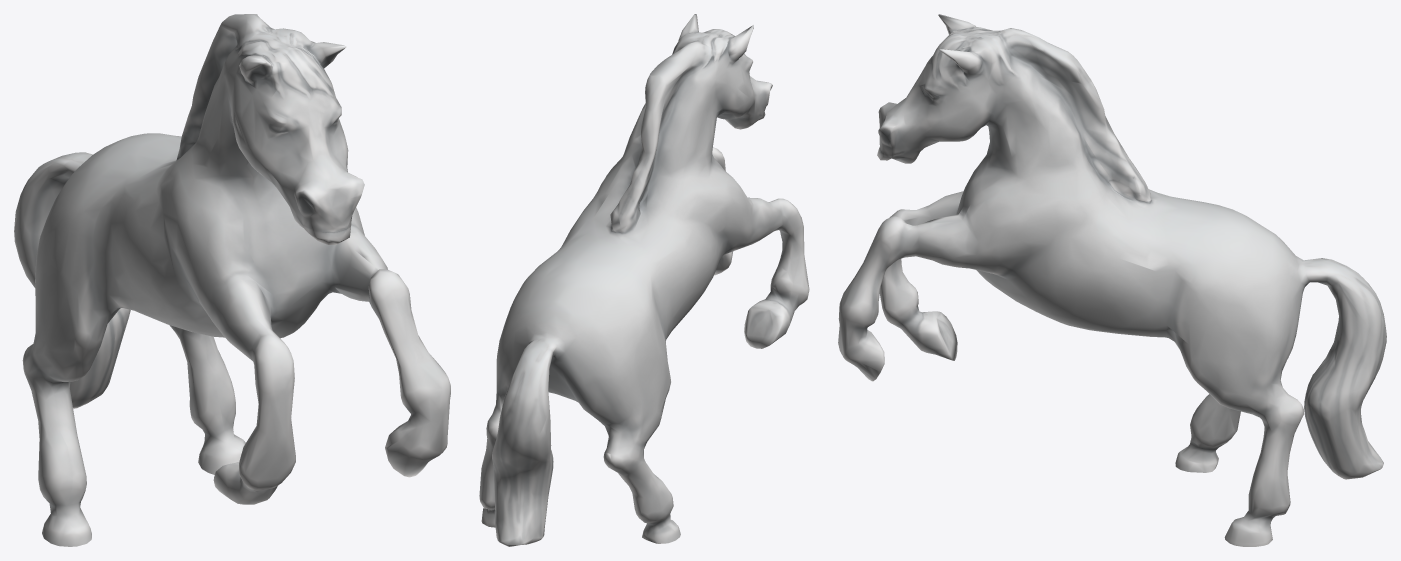
Rendered from ParkStatueHorse01.FBX.
3 renders of one model, left to right at view 1: azimuth 30°, elevation 25°; view 2: azimuth 150°, elevation 25°; view 3: azimuth 270°, elevation 25°, orthographic. The views are drawn at different scales.
Visible parts, largest first — view 1: ParkStatueHorse01; view 2: ParkStatueHorse01; view 3: ParkStatueHorse01.
Boxes of the visible parts, <box> form: ParkStatueHorse01: <box>14,14,450,546</box>; ParkStatueHorse01: <box>479,14,809,546</box>; ParkStatueHorse01: <box>838,14,1386,546</box>.
Size of what is drawn, in the model's own units: 1.4 by 3.36 by 3.6.
